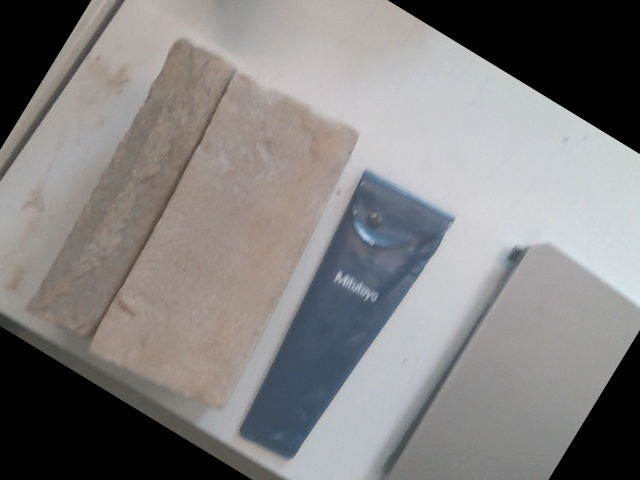brick: (100, 74, 354, 408)
